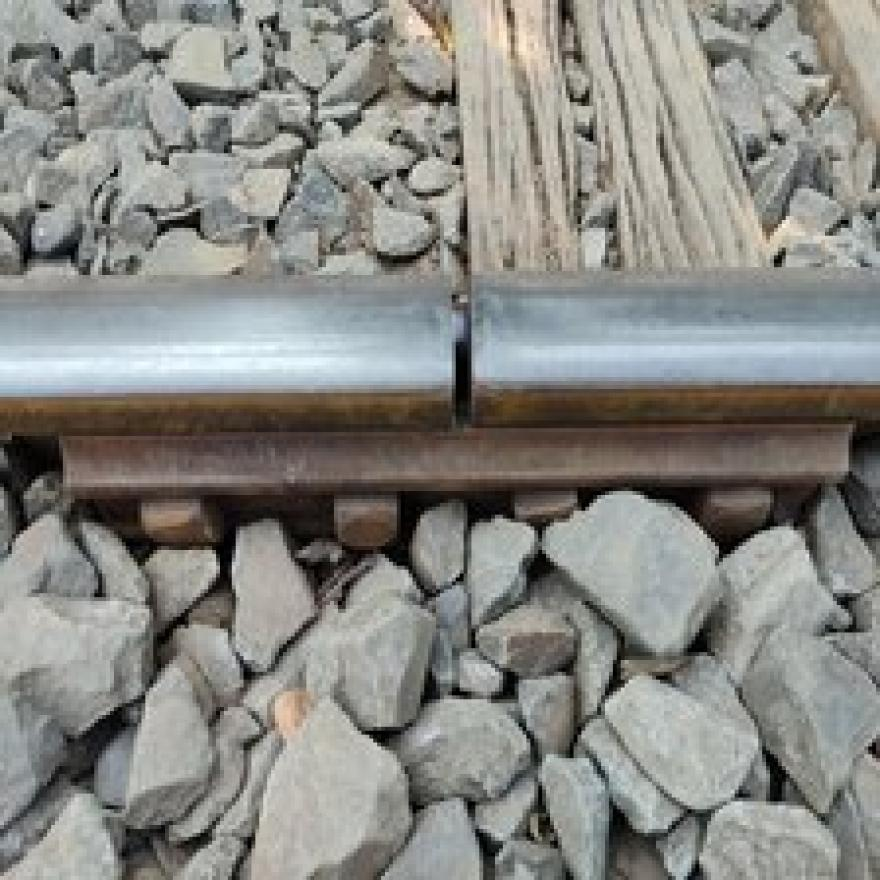railway-gap: (349, 237, 580, 472)
